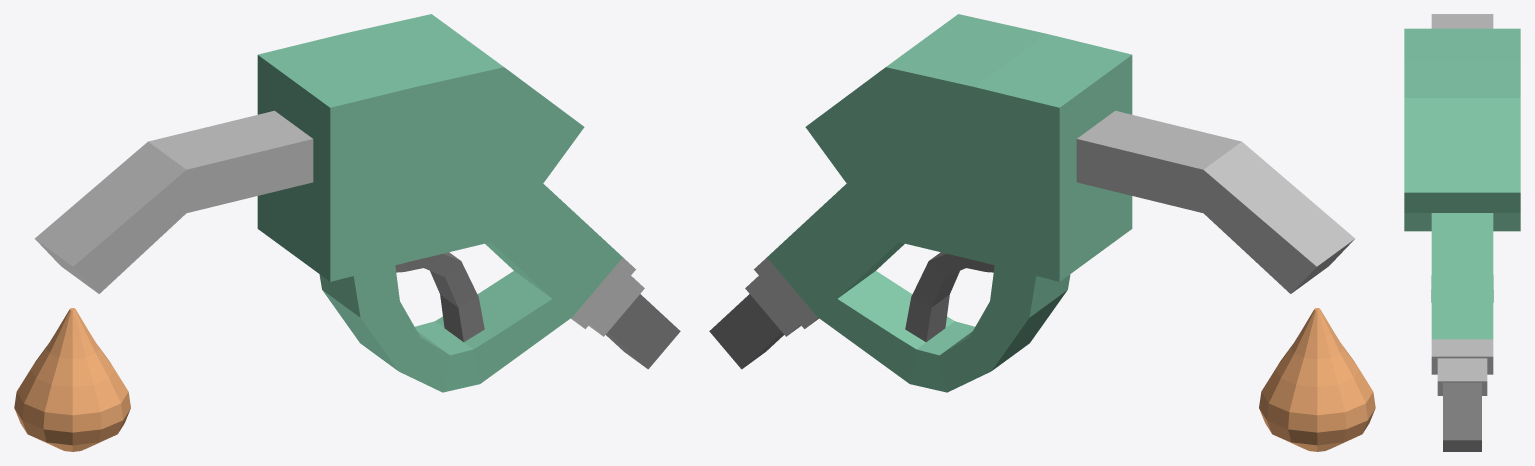
The model's file is gas_tank.fbx.
The picture shows the model from 3 angles, left to right: view 1: azimuth 30°, elevation 25°; view 2: azimuth 150°, elevation 25°; view 3: azimuth 270°, elevation 25°; orthographic projection. The views are drawn at different scales.
Visible parts, largest first — view 1: gas_icon, gas_drop; view 2: gas_icon, gas_drop; view 3: gas_icon.
Boxes of the visible parts, x1=… form: gas_icon: x1=34, y1=14, x2=680, y2=392; gas_drop: x1=14, y1=308, x2=130, y2=451; gas_icon: x1=709, y1=14, x2=1355, y2=392; gas_drop: x1=1259, y1=308, x2=1375, y2=451; gas_icon: x1=1404, y1=14, x2=1520, y2=451.
Bounding box in the file's own units: 408 × 219 × 79.41.
